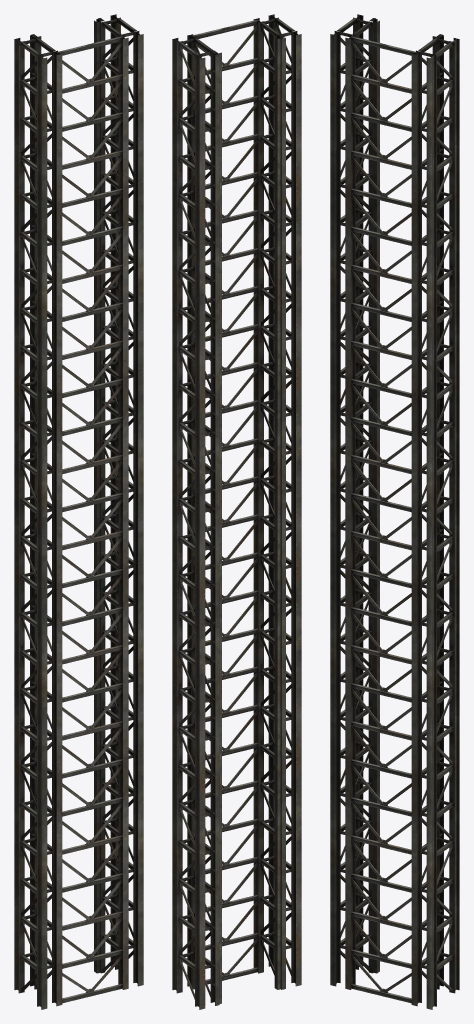
File: elevator01_framework.glb
The picture shows the model from 3 angles, left to right: view 1: azimuth 30°, elevation 25°; view 2: azimuth 210°, elevation 25°; view 3: azimuth 330°, elevation 25°; orthographic projection.
Parts seen in each view (by area): view 1: 0_elevator_framework; view 2: 0_elevator_framework; view 3: 0_elevator_framework.
Boxes of the visible parts, x1,y1,x2,y2 form: 0_elevator_framework: (14, 14, 143, 1009); 0_elevator_framework: (172, 14, 301, 1009); 0_elevator_framework: (330, 14, 459, 1009).
Size of the model in its own units: 4.56 by 40.66 by 2.11.
Materials: 1 (1 with a texture image).
